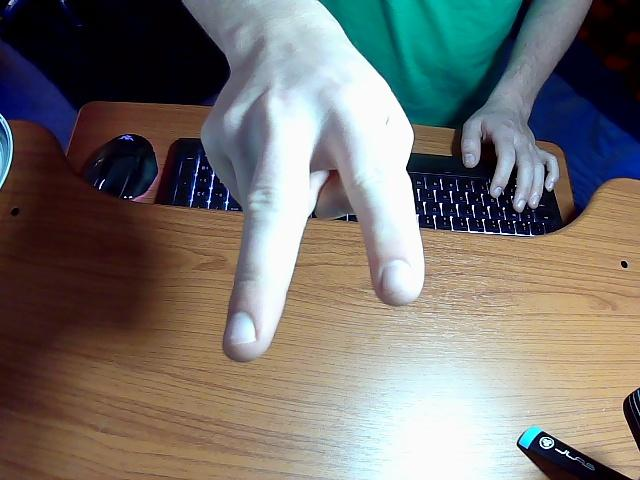scissors: (185, 0, 589, 361)
